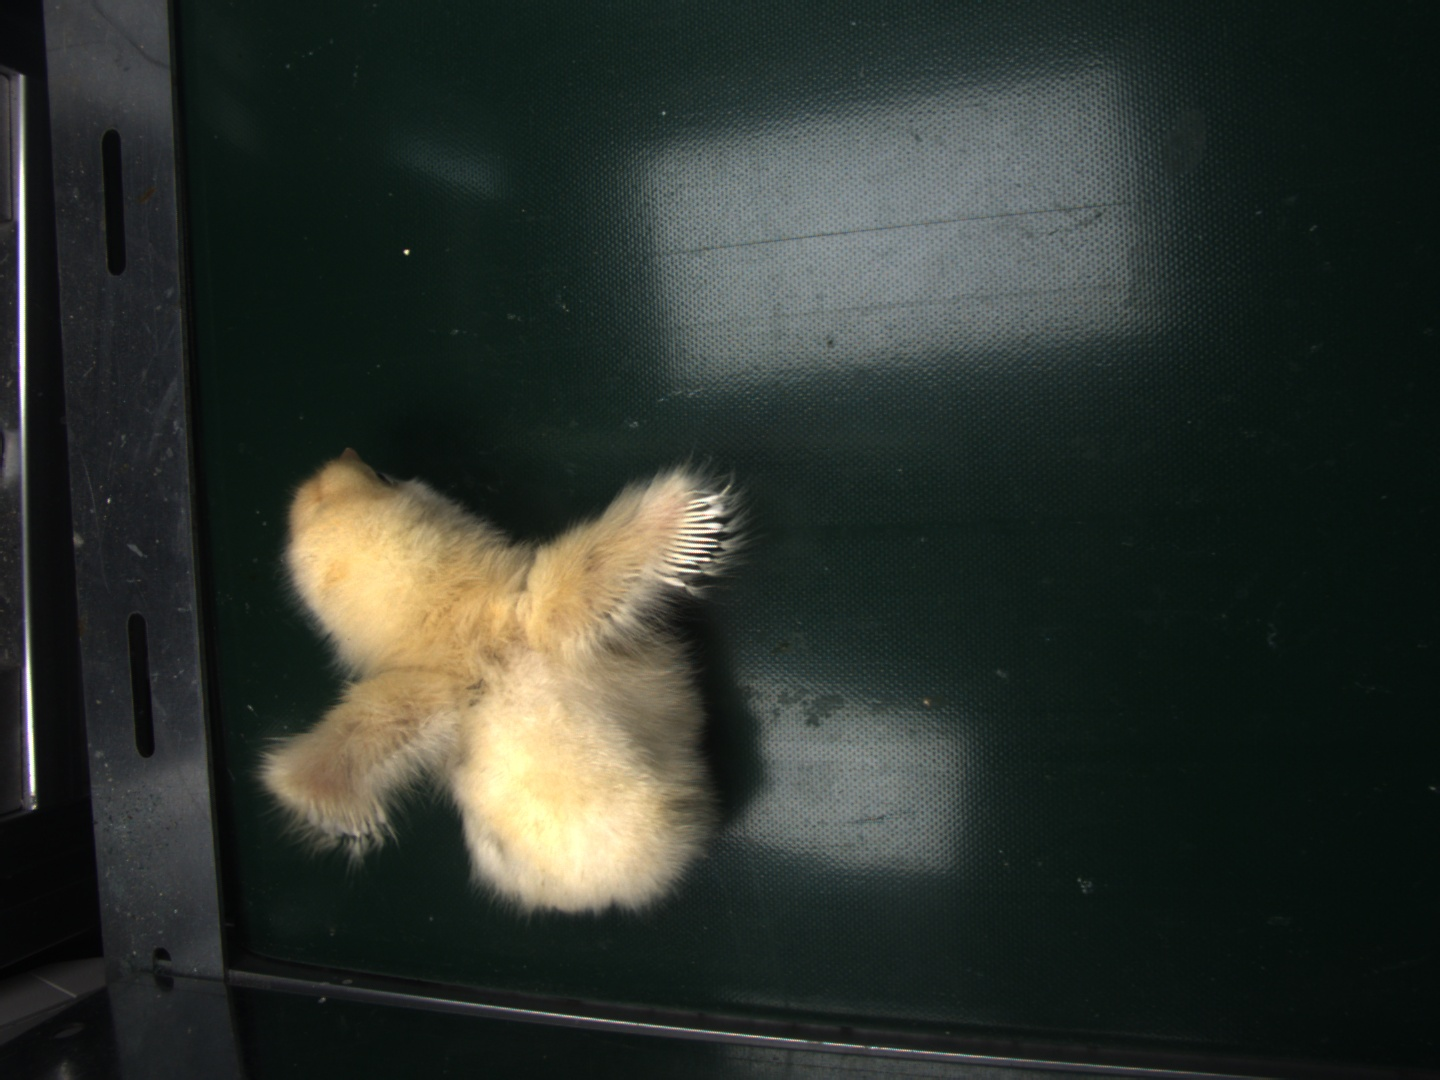male: (664, 488, 729, 577)
